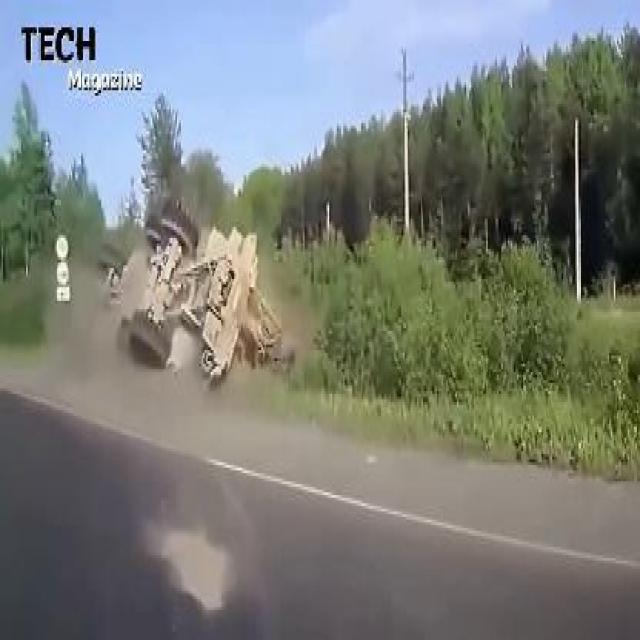accident: (101, 205, 296, 386)
